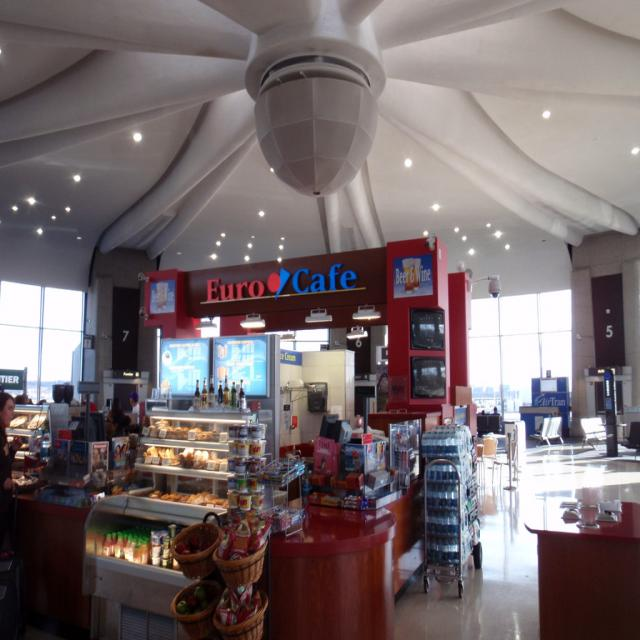chair: (534, 417, 564, 458)
desk: (519, 491, 640, 630)
person: (0, 391, 23, 557), (105, 399, 130, 438)
tv: (409, 308, 445, 351)
